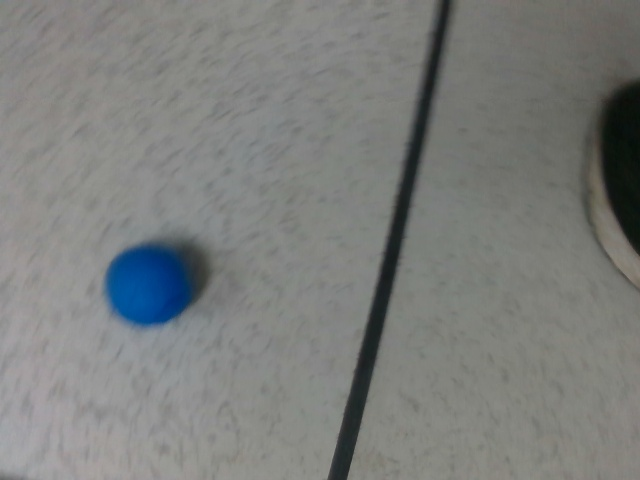blueball: (103, 234, 196, 327)
